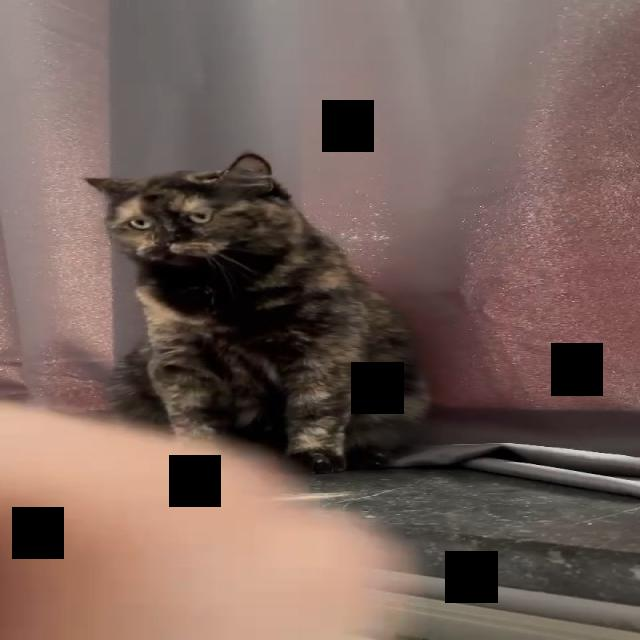authorized: (81, 152, 432, 474)
